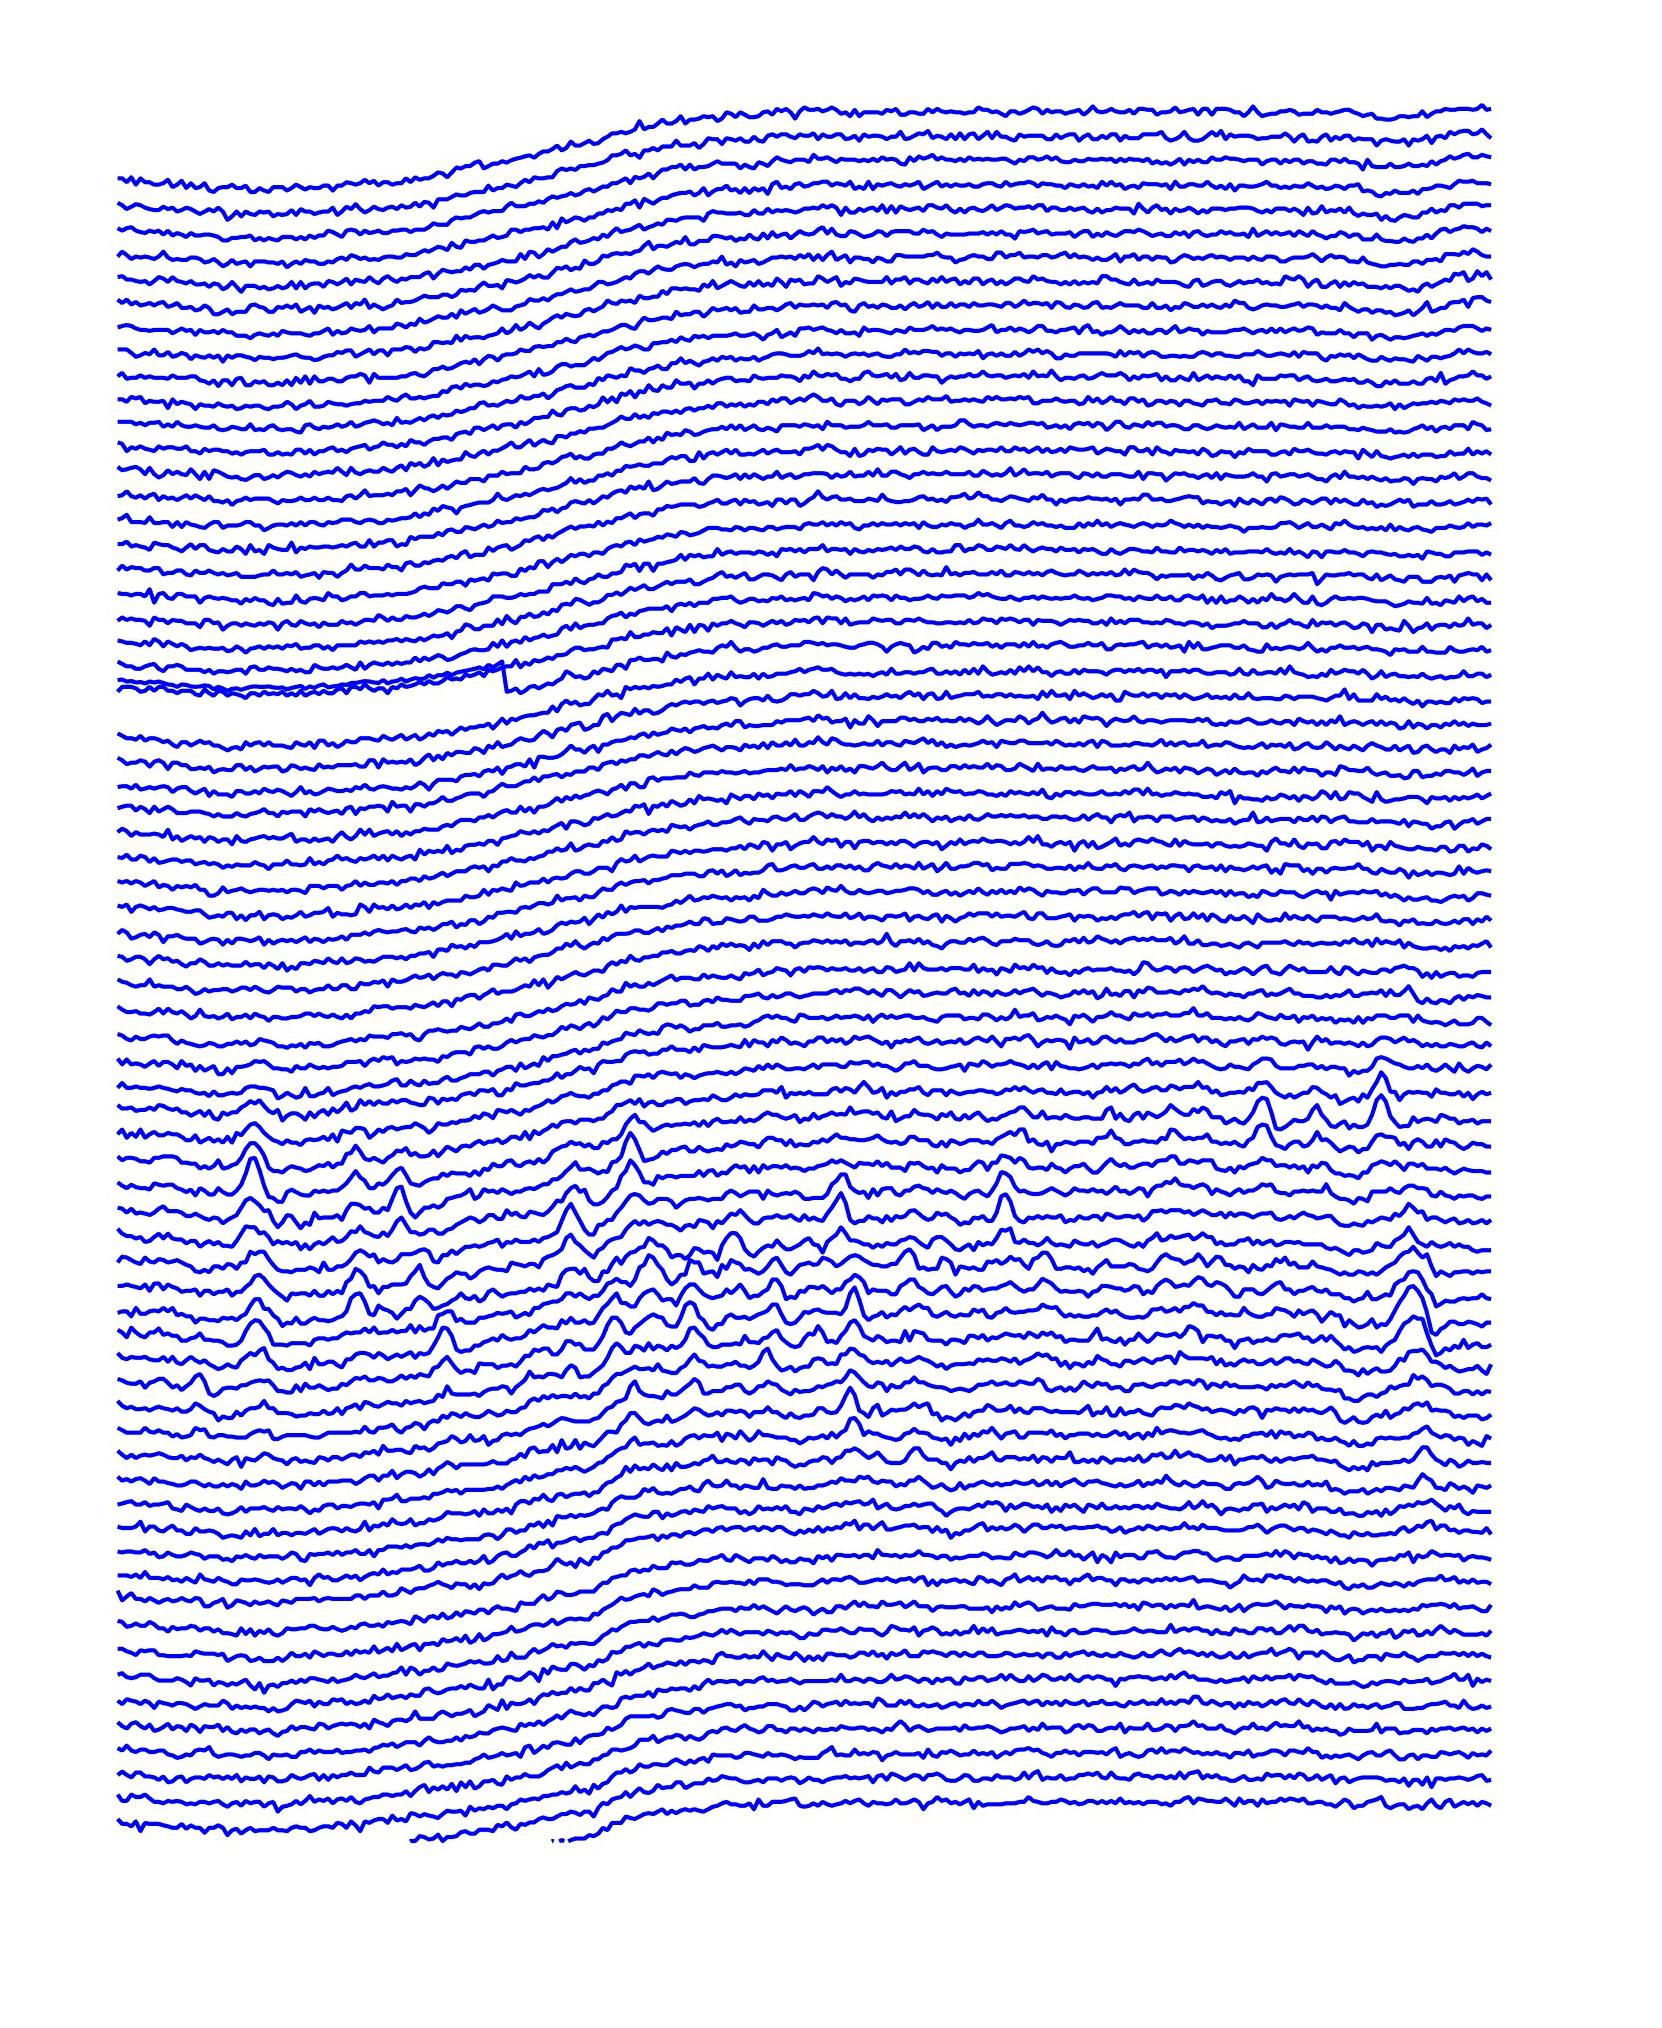defect: (598, 1231, 798, 1403), (221, 1086, 295, 1395), (820, 1120, 886, 1465), (1224, 1061, 1404, 1161), (332, 1135, 423, 1324), (1369, 1213, 1450, 1380), (603, 1093, 663, 1218), (978, 1154, 1042, 1262), (546, 1181, 596, 1287), (419, 1300, 471, 1398)
